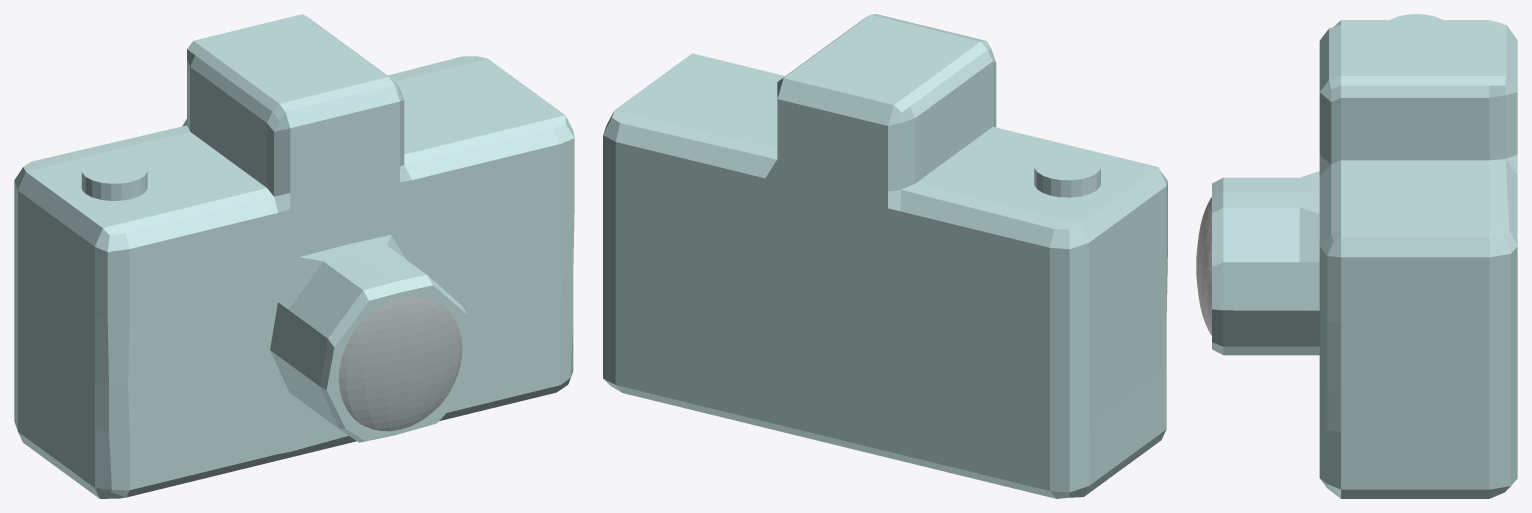
The model's file is camera4.fbx.
3 views of the same model, side by side, from view 1: azimuth 30°, elevation 25°; view 2: azimuth 150°, elevation 25°; view 3: azimuth 270°, elevation 25° (orthographic). The views are drawn at different scales.
Visible parts, largest first — view 1: pCube1, pSphere1, pCylinder1; view 2: pCube1, pCylinder1; view 3: pCube1, pSphere1, pCylinder1.
Boxes of the visible parts, x1,y1,x2,y2 form: pCube1: [14, 14, 574, 498]; pSphere1: [338, 296, 462, 431]; pCylinder1: [81, 156, 147, 200]; pCube1: [603, 14, 1167, 498]; pCylinder1: [1034, 152, 1100, 197]; pCube1: [1212, 20, 1517, 498]; pSphere1: [1196, 197, 1211, 335]; pCylinder1: [1385, 14, 1447, 24].
Size of the model in its own units: 4.74 by 3.37 by 2.87.
